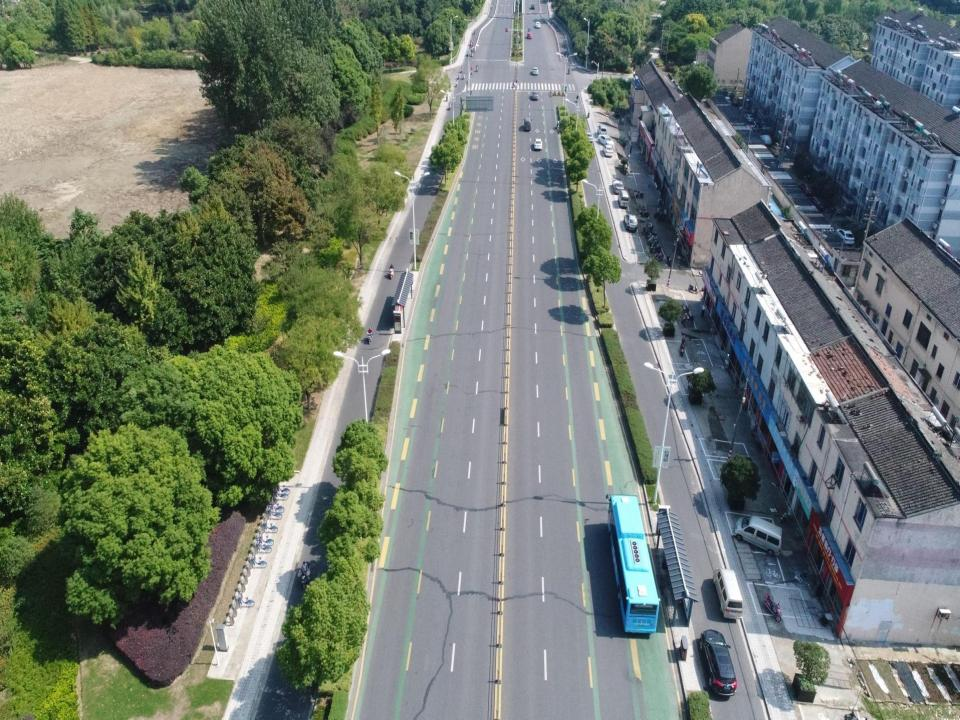bus: (605, 492, 659, 635)
car: (698, 626, 736, 700), (623, 213, 638, 232), (597, 134, 615, 148), (612, 179, 624, 194), (602, 144, 614, 157), (534, 138, 543, 150), (585, 131, 593, 142), (531, 66, 539, 75), (532, 90, 539, 100), (535, 20, 541, 29), (527, 31, 532, 39), (530, 3, 535, 10)
van: (734, 514, 782, 559), (712, 566, 743, 621), (618, 189, 629, 208), (524, 118, 532, 132), (597, 125, 607, 135)
